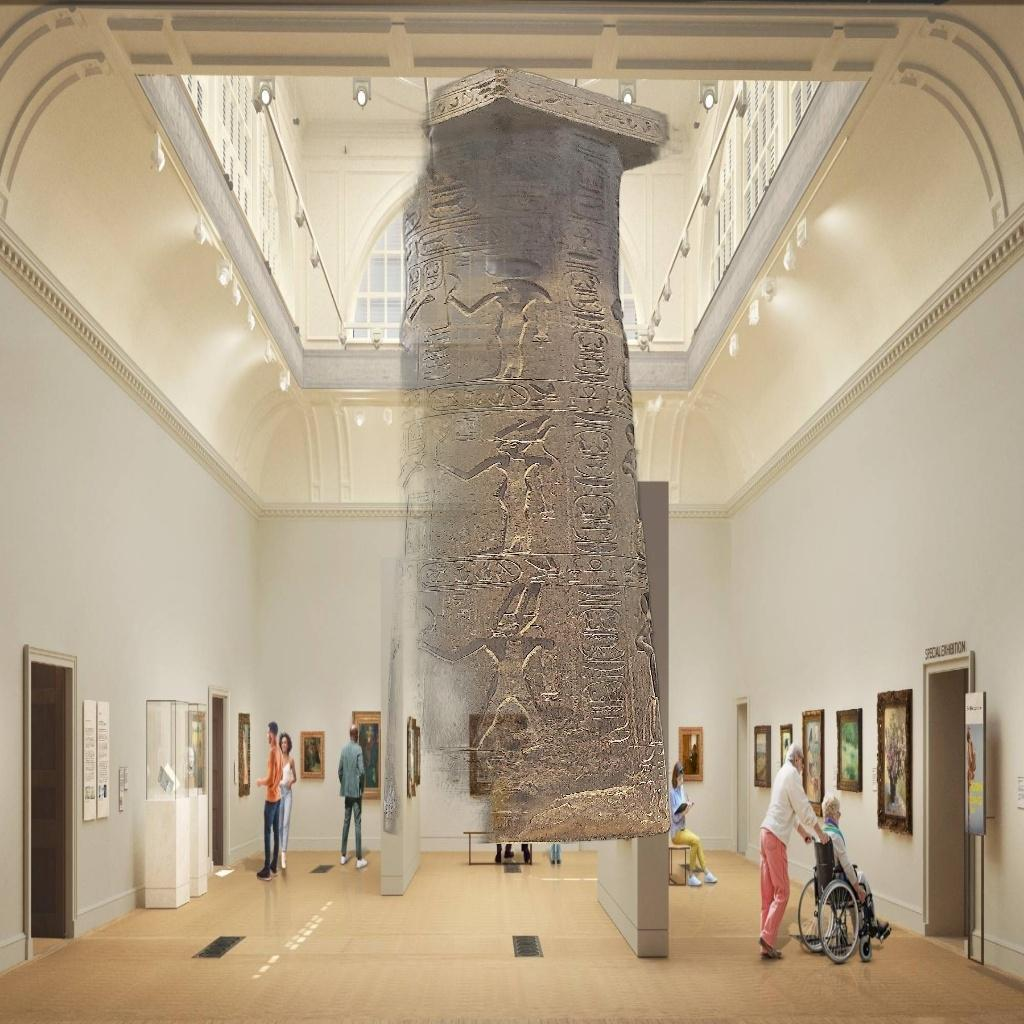Column of Merenptah: (334, 65, 688, 844)
